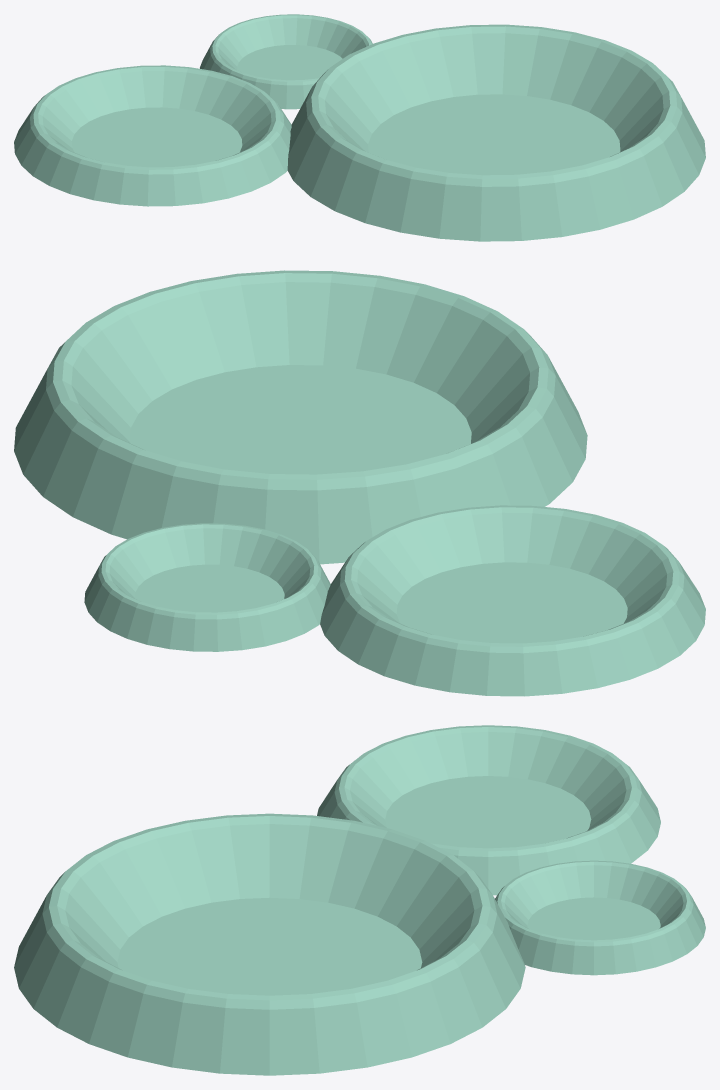
File: SM_EN_Geyser_02.fbx
3 views of the same model, one above another, from view 1: azimuth 30°, elevation 25°; view 2: azimuth 150°, elevation 25°; view 3: azimuth 270°, elevation 25° (orthographic). The views are drawn at different scales.
Visible parts, largest first — view 1: SM_EN_Geyser_02; view 2: SM_EN_Geyser_02; view 3: SM_EN_Geyser_02.
Part boxes in pixels (<box>): SM_EN_Geyser_02: <box>14,14,705,241</box>; SM_EN_Geyser_02: <box>14,270,705,696</box>; SM_EN_Geyser_02: <box>14,725,705,1075</box>.
Bounding box in the file's own units: 226 × 203 × 20.
